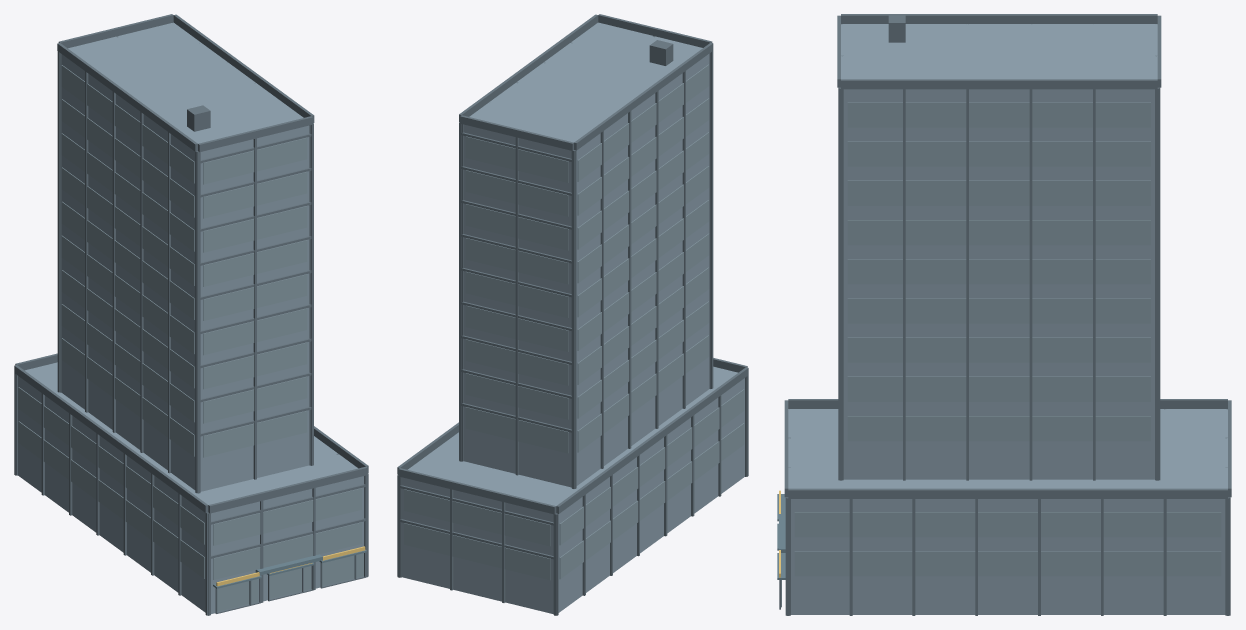
File: commercial_2x4_b.glb
3 renders of one model, left to right at view 1: azimuth 30°, elevation 25°; view 2: azimuth 150°, elevation 25°; view 3: azimuth 270°, elevation 25°, orthographic. The views are drawn at different scales.
Visible parts, largest first — view 1: commercial_2x4_b_0; view 2: commercial_2x4_b_0; view 3: commercial_2x4_b_0.
Part boxes in pixels (bbox=[...]): commercial_2x4_b_0: bbox=[14, 14, 368, 615]; commercial_2x4_b_0: bbox=[397, 14, 748, 615]; commercial_2x4_b_0: bbox=[777, 14, 1231, 615].
Bounding box in the file's own units: 15 × 40.5 × 31.5.
